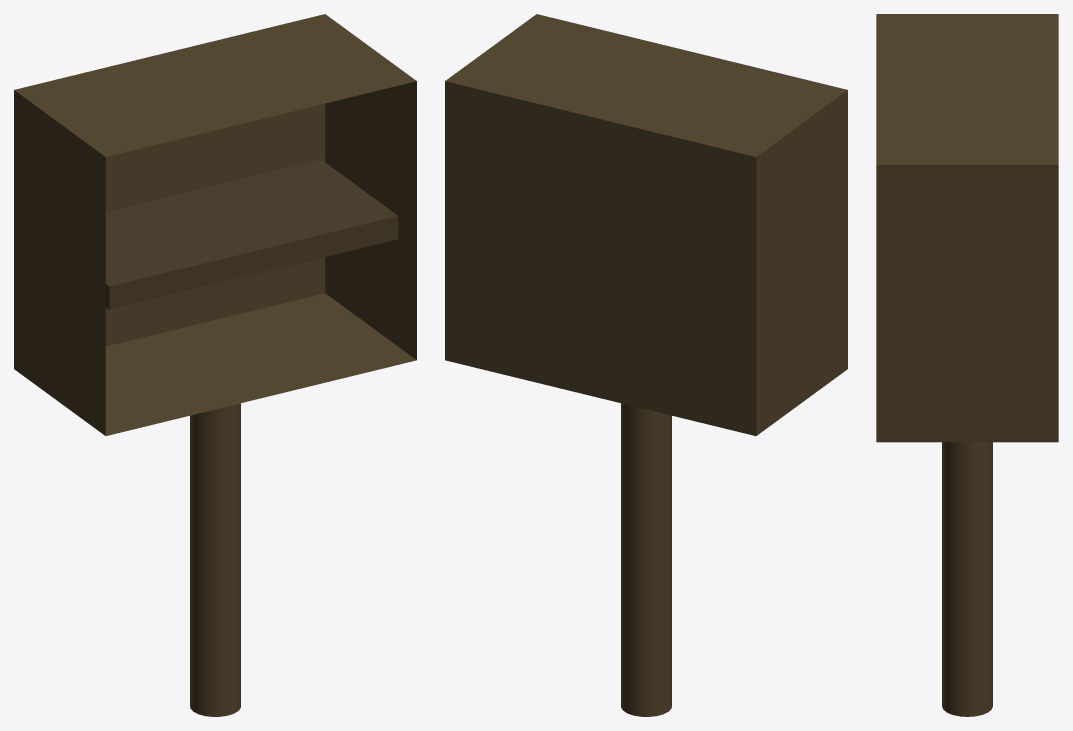
The model's file is gardenfoodpantry.fbx.
3 views of the same model, side by side, from view 1: azimuth 30°, elevation 25°; view 2: azimuth 150°, elevation 25°; view 3: azimuth 270°, elevation 25° (orthographic).
Parts seen in each view (by area): view 1: pCube1, pCube2, pCylinder1; view 2: pCube1, pCylinder1; view 3: pCube1, pCylinder1.
Part boxes in pixels (left/top/right/bottom): pCube1: left=14, top=14, right=416, bottom=435; pCube2: left=105, top=159, right=398, bottom=309; pCylinder1: left=190, top=403, right=240, bottom=716; pCube1: left=445, top=14, right=847, bottom=435; pCylinder1: left=621, top=403, right=671, bottom=716; pCube1: left=876, top=14, right=1058, bottom=442; pCylinder1: left=942, top=442, right=992, bottom=716.
Bounding box in the file's own units: 0.07 × 0.1334 × 0.0358.
